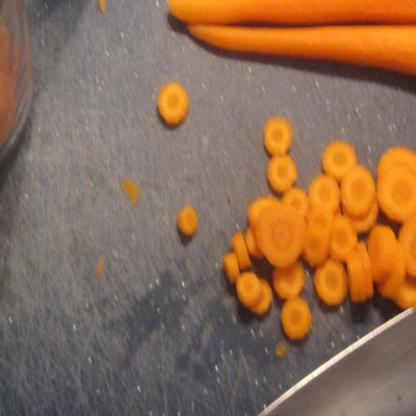knife: (189, 226, 415, 415)
